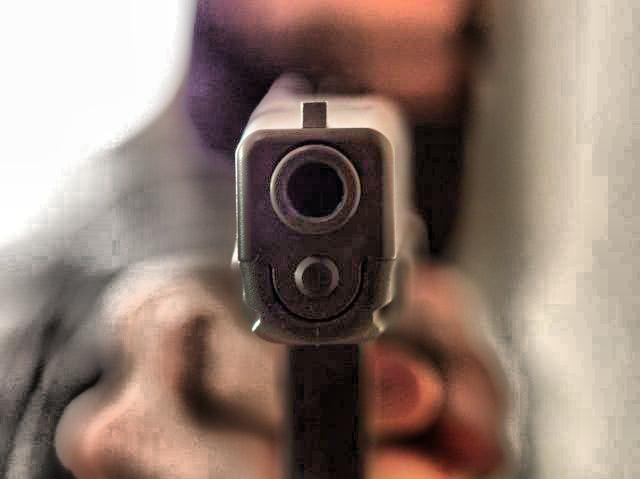pistol: (228, 66, 417, 478)
